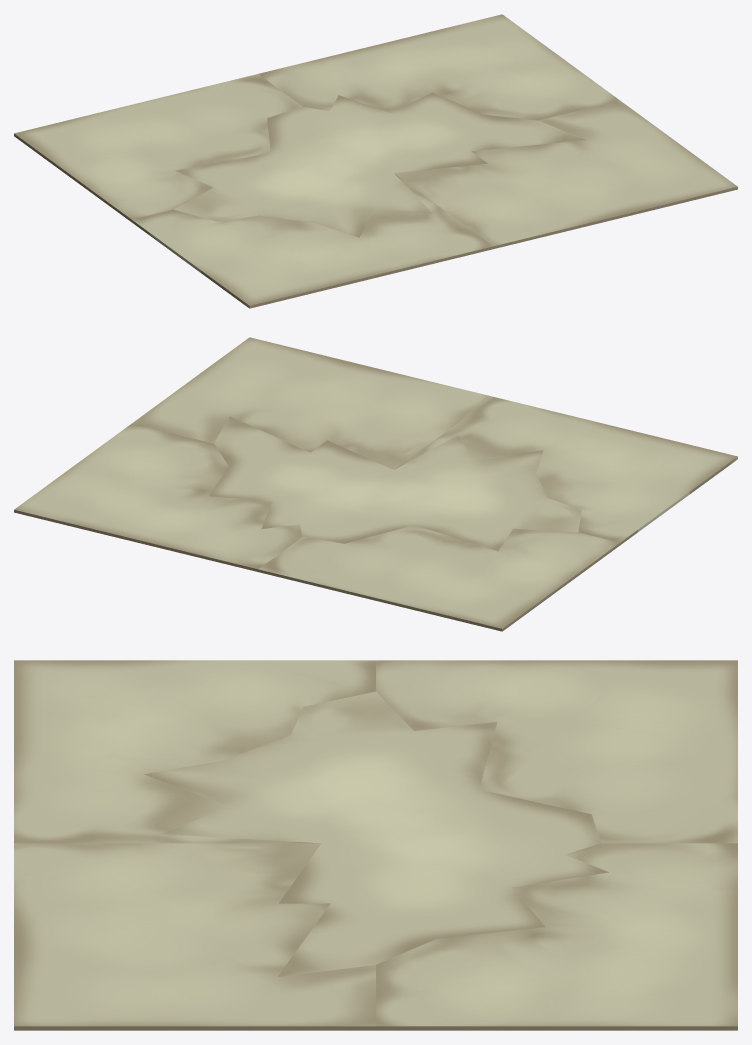
Rendered from Spell.fbx.
The picture shows the model from 3 angles, top to bottom: view 1: azimuth 30°, elevation 25°; view 2: azimuth 150°, elevation 25°; view 3: azimuth 270°, elevation 25°; orthographic projection. The views are drawn at different scales.
Parts seen in each view (by area): view 1: Spell, Spell.001, Spell.004, Spell.003, Spell.002; view 2: Spell, Spell.001, Spell.004, Spell.003, Spell.002; view 3: Spell, Spell.001, Spell.004, Spell.003, Spell.002.
Boxes of the visible parts, box(x1,y1,x2,y2) form: Spell: box(174, 92, 585, 237); Spell.001: box(394, 100, 737, 248); Spell.004: box(258, 14, 619, 120); Spell.003: box(14, 74, 302, 221); Spell.002: box(131, 173, 493, 308); Spell: box(209, 416, 581, 551); Spell.001: box(132, 337, 493, 469); Spell.004: box(14, 423, 302, 571); Spell.003: box(258, 525, 620, 631); Spell.002: box(394, 397, 737, 544); Spell: box(144, 691, 608, 976); Spell.001: box(14, 843, 375, 1030); Spell.004: box(376, 843, 737, 1030); Spell.003: box(376, 660, 737, 843); Spell.002: box(14, 660, 375, 843).
Bounding box in the file's own units: 2.39 × 0.0132 × 2.
